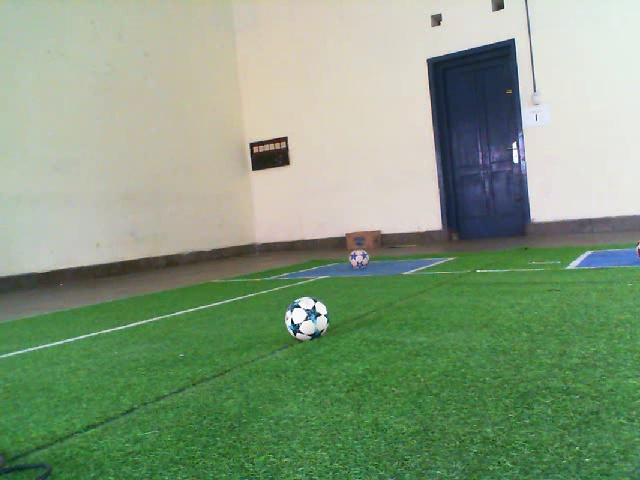ball: (282, 295, 331, 343), (346, 247, 372, 272)
